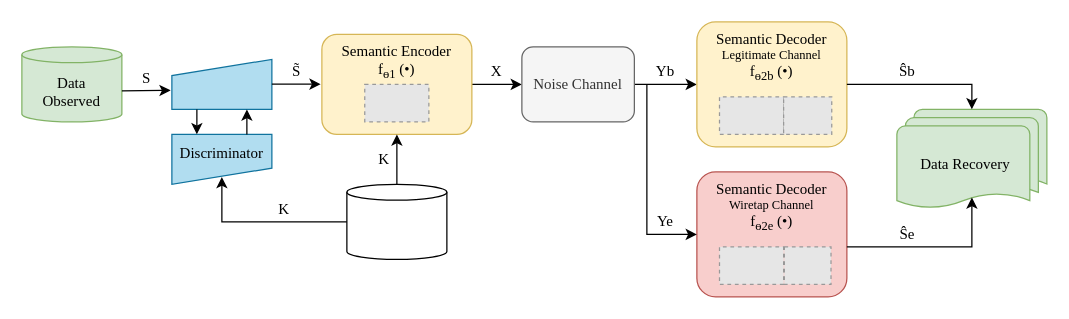
The diagram is 1069 pixels wide and 319 high, and some of its shapes have lost their labels. Grey dashed boxes stand in for pictures. Each missing label, with the box of its shape:
Database (K): (346, 183, 447, 259)
Generator: (171, 58, 272, 109)
